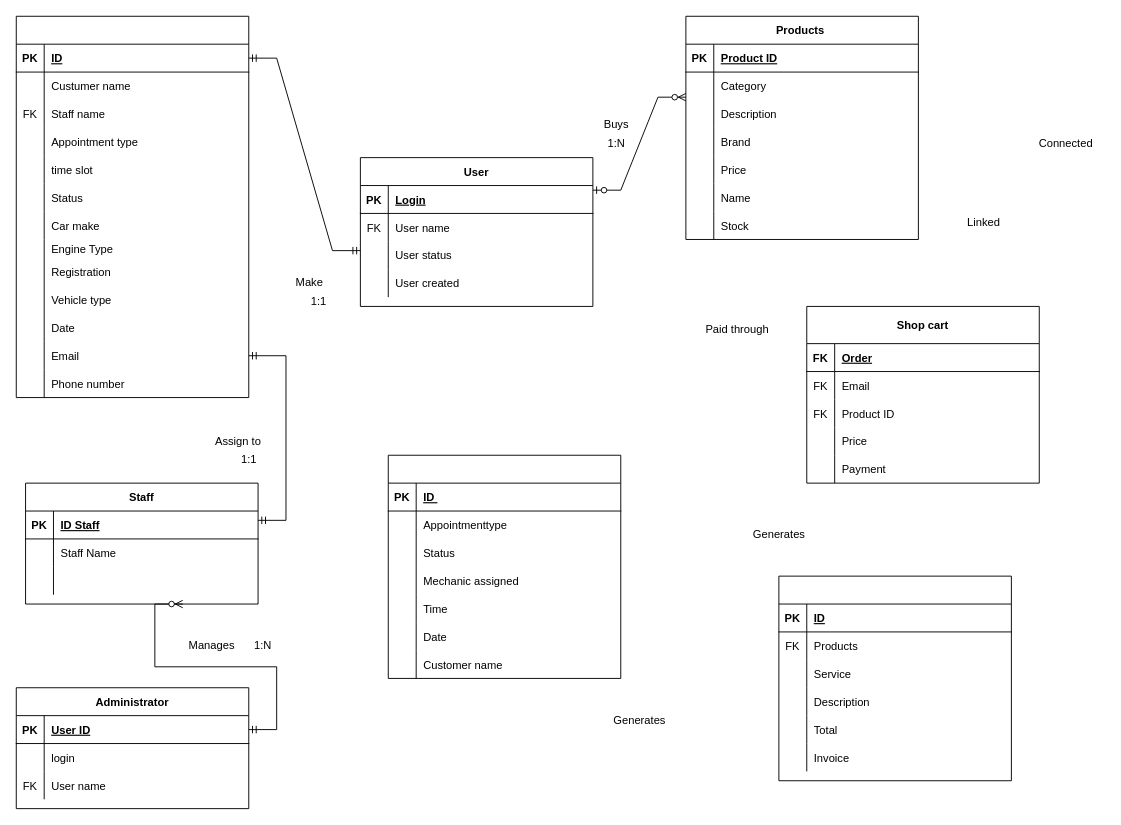
The diagram is 1121 pixels wide and 825 high, and some of its shapes have lost their labels. The box of each missing label's shape, as (x1, y1, x2, y2) in pixels:
Bookings: (15, 15, 249, 398)
Orders: (778, 575, 1011, 781)
View appointments: (387, 454, 621, 678)
